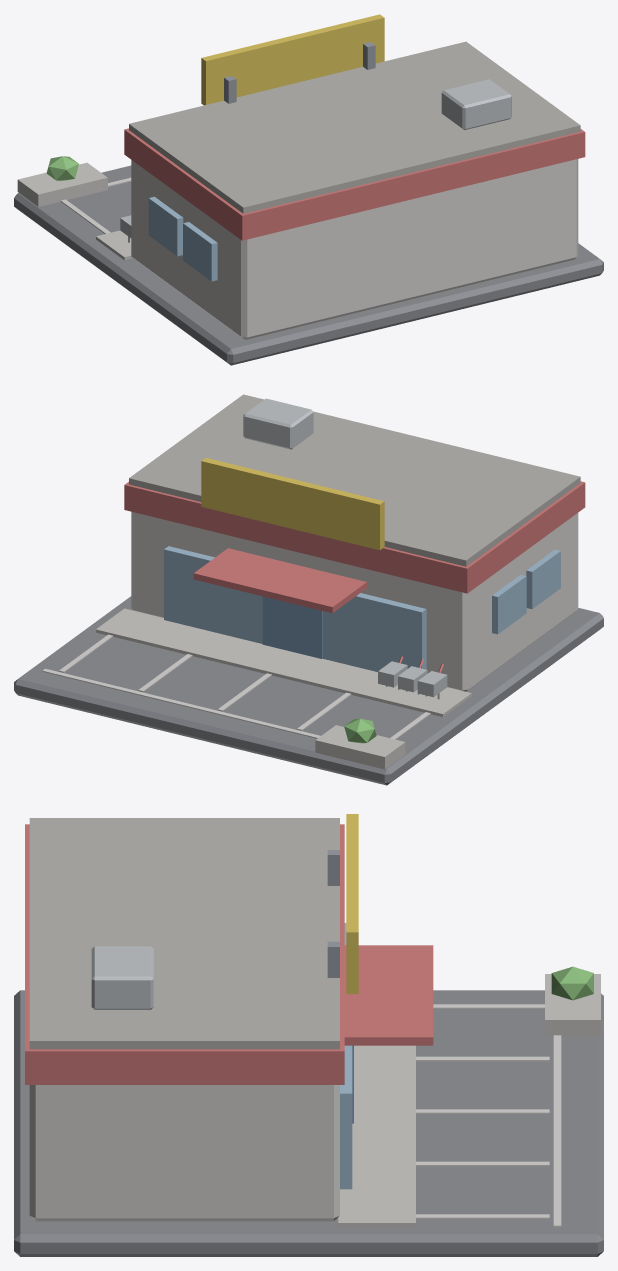
The model's file is comercial__mercado.glb.
3 views of the same model, one above another, from view 1: azimuth 30°, elevation 25°; view 2: azimuth 150°, elevation 25°; view 3: azimuth 270°, elevation 25° (orthographic). The views are drawn at different scales.
Parts seen in each view (by area): view 1: comercial__mercado; view 2: comercial__mercado; view 3: comercial__mercado.
Part boxes in pixels (box(x1,y1,x2,y2)): comercial__mercado: box(14, 14, 603, 365); comercial__mercado: box(14, 394, 603, 785); comercial__mercado: box(14, 814, 603, 1256).
Size of the model in its own units: 1.9 by 0.93 by 1.9.
